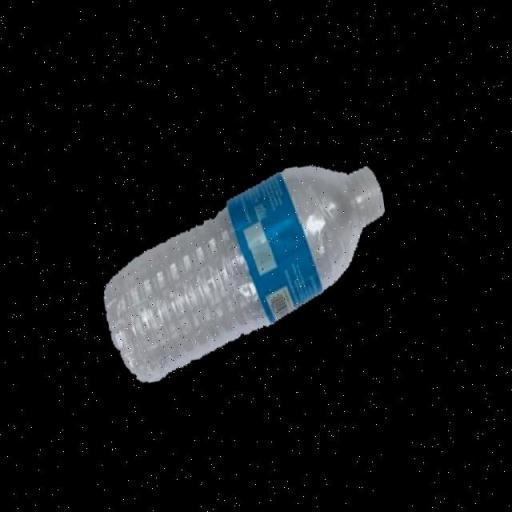plastic: (88, 152, 406, 389)
